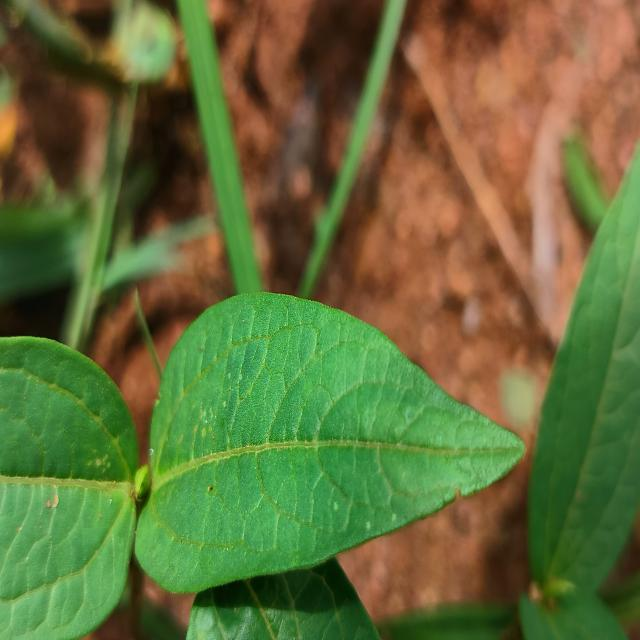Black gram_healthy: (136, 291, 527, 597)
